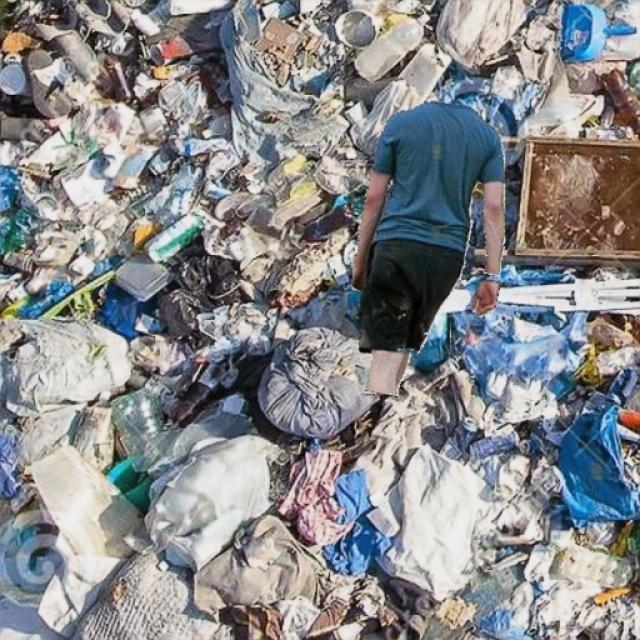Person in Rubble: (352, 100, 503, 396)
